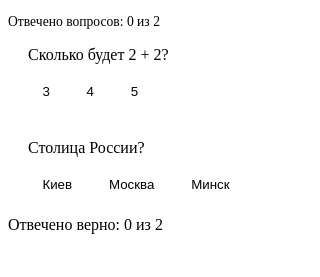
Scenario: correct answer shows "Верно!" with why and locks options
What coordinates should you click on to do the following:
click the button "4"
I would click on:
 (90, 91)
Its box is x1=72 y1=76 x2=108 y2=107.
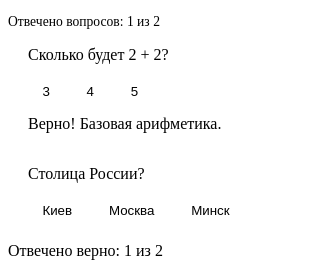
Expected: the button "3" is disabled, x1=28 y1=76 x2=64 y2=107
Now the text "Верно!" is shown, box x1=28 y1=115 x2=76 y2=132
Now the text "Базовая арифметика." is shown, box x1=76 y1=115 x2=222 y2=132
